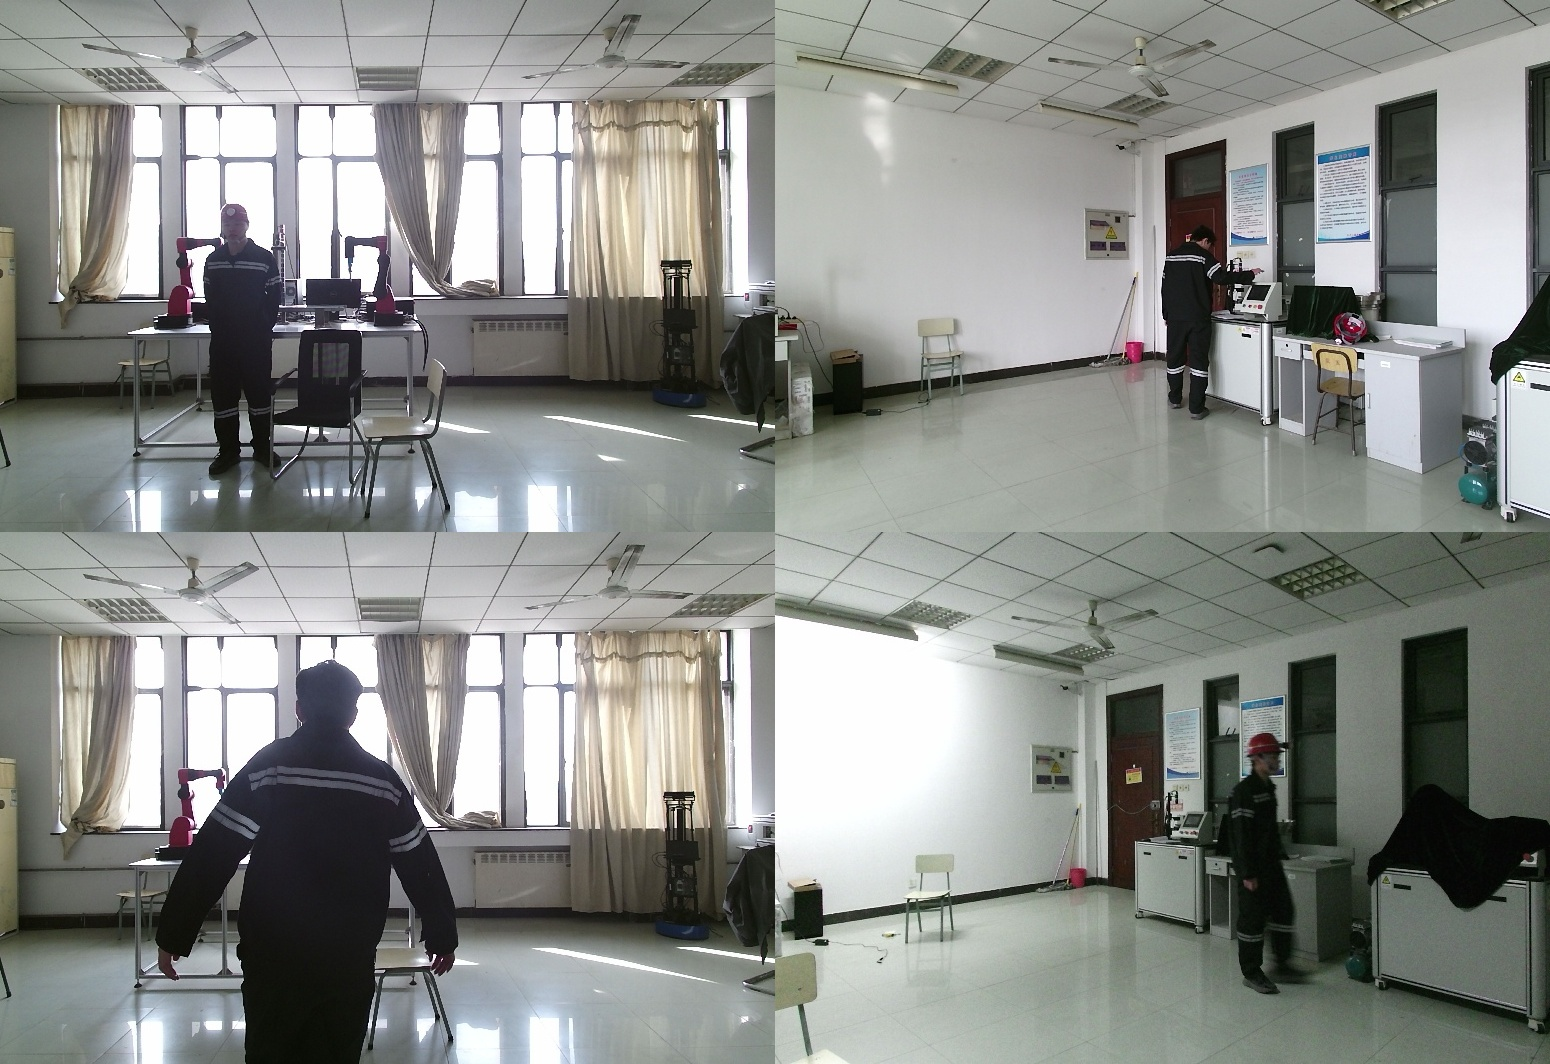person: (155, 662, 459, 1064), (204, 205, 289, 478), (1161, 231, 1275, 420), (1217, 734, 1291, 993)
